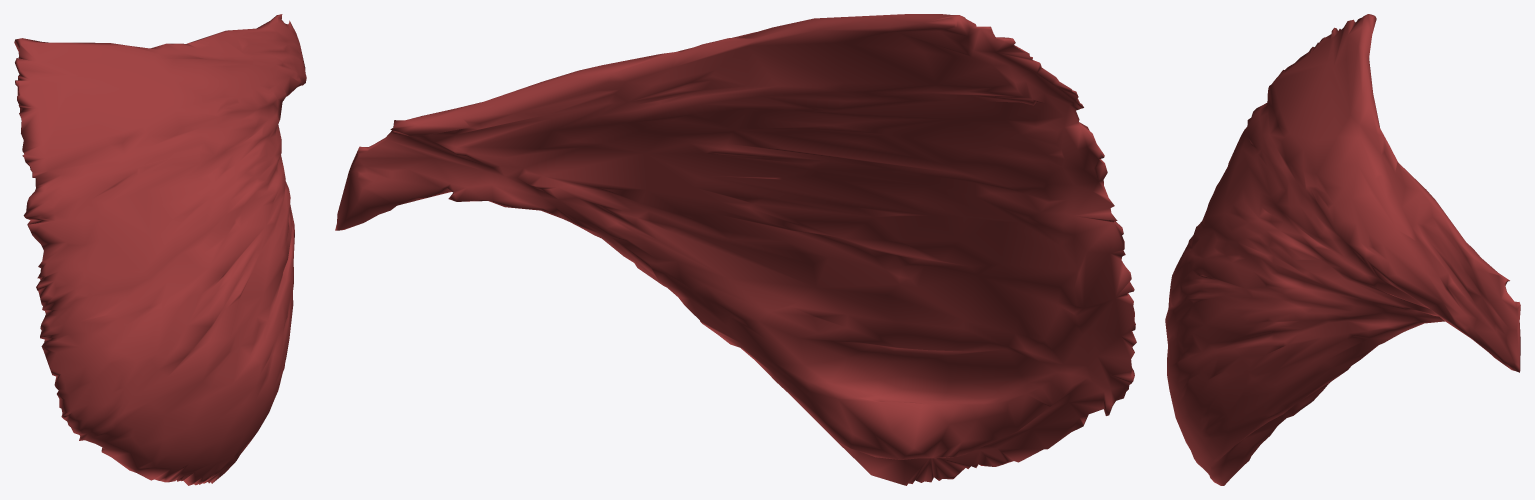
The model's file is sternocostal-head-of-pectoralis-major-muscle-l.glb.
3 views of the same model, side by side, from view 1: azimuth 30°, elevation 25°; view 2: azimuth 150°, elevation 25°; view 3: azimuth 270°, elevation 25° (orthographic). The views are drawn at different scales.
Parts seen in each view (by area): view 1: Sternocostal head of pectoralis major muscle.l; view 2: Sternocostal head of pectoralis major muscle.l; view 3: Sternocostal head of pectoralis major muscle.l.
Part boxes in pixels (x1=…): Sternocostal head of pectoralis major muscle.l: x1=14, y1=14, x2=306, y2=485; Sternocostal head of pectoralis major muscle.l: x1=335, y1=14, x2=1136, y2=485; Sternocostal head of pectoralis major muscle.l: x1=1165, y1=14, x2=1520, y2=485.
Bounding box in the file's own units: 0.1901 × 0.1822 × 0.1422.
